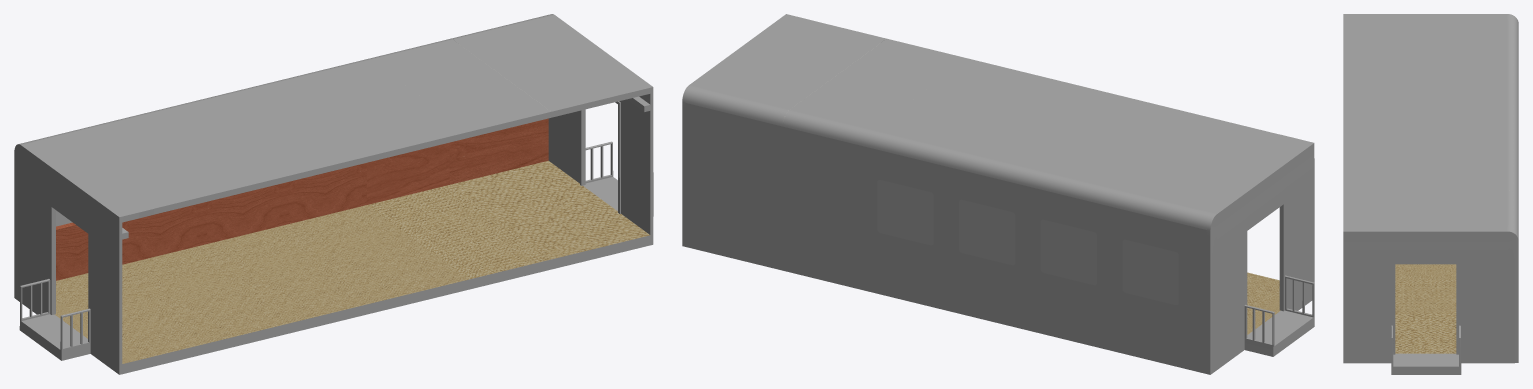
Rendered from sittingAreaCar.fbx.
3 renders of one model, left to right at view 1: azimuth 30°, elevation 25°; view 2: azimuth 150°, elevation 25°; view 3: azimuth 270°, elevation 25°, orthographic. The views are drawn at different scales.
Parts seen in each view (by area): view 1: sittingCar; view 2: sittingCar; view 3: sittingCar.
Boxes of the visible parts, x1,y1,x2,y2 form: sittingCar: [14, 14, 653, 374]; sittingCar: [682, 14, 1314, 374]; sittingCar: [1343, 14, 1518, 374].
Bounding box in the file's own units: 25.04 × 6.37 × 7.71.
Materials: 27 (18 with a texture image).
